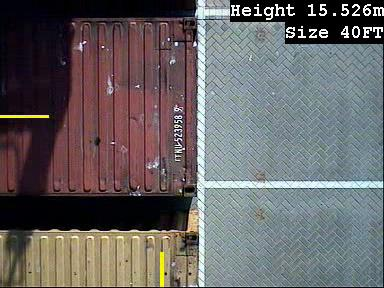groundmarker_2: (176, 236, 247, 277), (205, 99, 248, 160)
